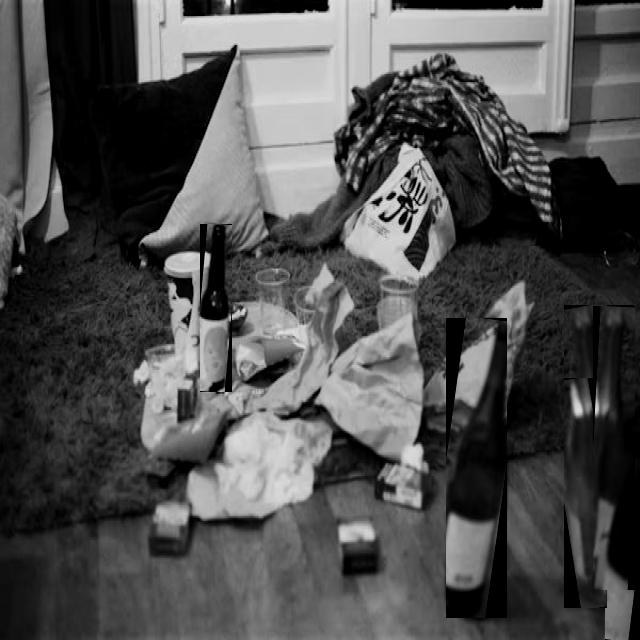Bottle: (564, 306, 632, 607), (445, 319, 505, 617), (593, 306, 633, 590), (564, 378, 605, 607), (604, 457, 639, 639), (199, 224, 230, 392)
